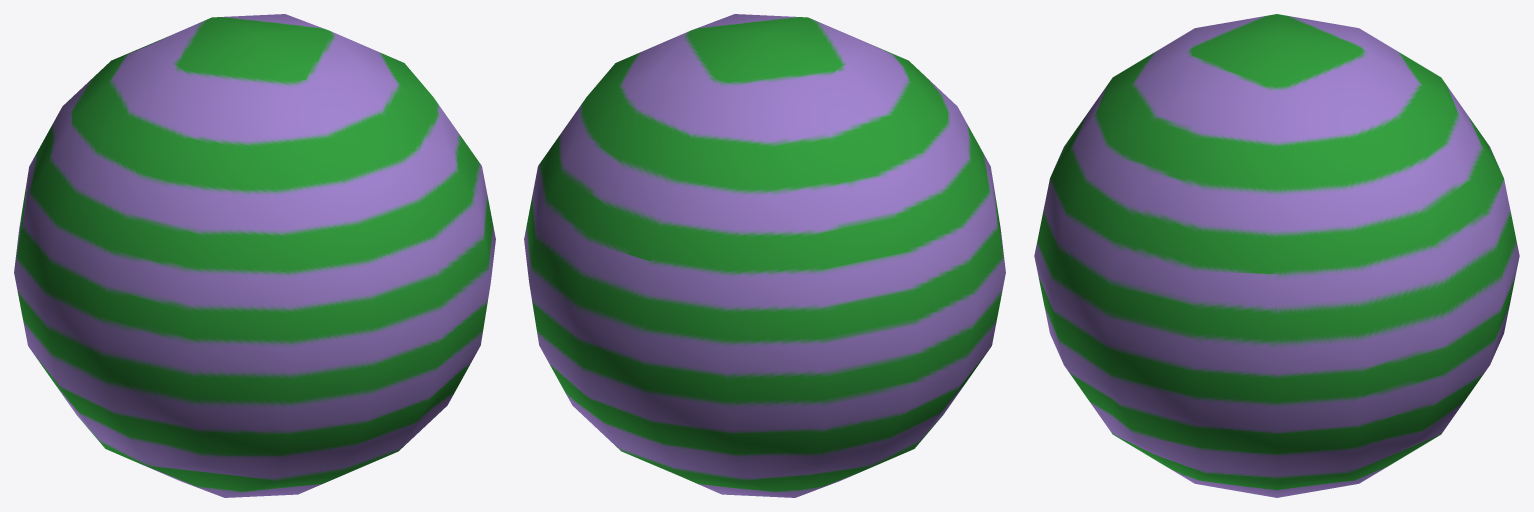
File: G0_DM_ball.gltf
3 views of the same model, side by side, from view 1: azimuth 30°, elevation 25°; view 2: azimuth 150°, elevation 25°; view 3: azimuth 270°, elevation 25° (orthographic).
Parts seen in each view (by area): view 1: G0_DM_ball; view 2: G0_DM_ball; view 3: G0_DM_ball.
Part boxes in pixels (bbox=[...]): G0_DM_ball: bbox=[14, 14, 495, 497]; G0_DM_ball: bbox=[524, 14, 1005, 497]; G0_DM_ball: bbox=[1034, 14, 1519, 497].
Bounding box in the file's own units: 0.4149 × 0.4149 × 0.4149.
Materials: 1 (1 with a texture image).
